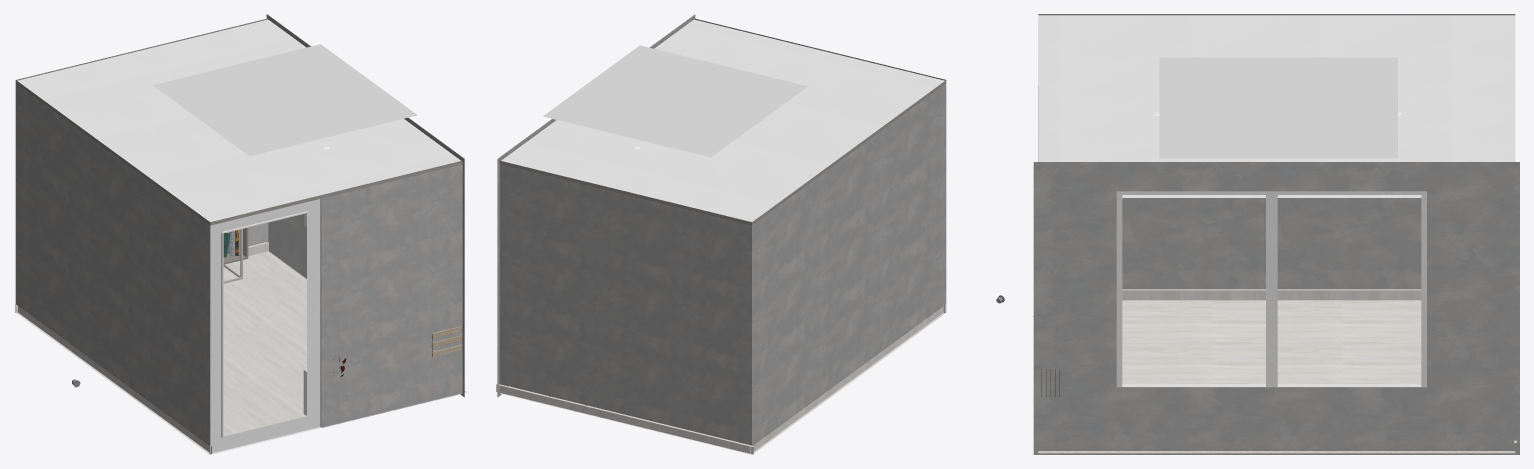
The model's file is lsw_env.glb.
The picture shows the model from 3 angles, left to right: view 1: azimuth 30°, elevation 25°; view 2: azimuth 150°, elevation 25°; view 3: azimuth 270°, elevation 25°; orthographic projection. The views are drawn at different scales.
Parts seen in each view (by area): view 1: Cube.003, Cube.001, Cube.004, Plane.004, Cube.020, Cube.024, Cube.025, Cube.023, Object_8.003; view 2: Cube.003, Cube.001, Plane.004, Cube.023, Cube.025, Cube.020; view 3: Cube.003, Cube.001, Plane.004, Cube.020, Cube.024, Cube.023, Cube.029, Cube.025.
Part boxes in pixels (x1,y1,x2,y2): Cube.003: (15,14,464,445); Cube.001: (17,19,460,221); Cube.004: (224,213,306,435); Plane.004: (152,44,417,156); Cube.020: (16,251,461,454); Cube.024: (209,198,321,454); Cube.025: (15,18,462,225); Cube.023: (14,242,268,453); Object_8.003: (432,326,462,356); Cube.003: (497,14,946,445); Cube.001: (501,19,944,221); Plane.004: (543,45,807,157); Cube.023: (495,306,943,454); Cube.025: (499,18,946,225); Cube.020: (500,313,945,454); Cube.003: (1033,162,1519,454); Cube.001: (1038,15,1515,161); Plane.004: (1159,57,1397,158); Cube.020: (1122,300,1421,383); Cube.024: (1038,18,1426,387); Cube.023: (1122,289,1516,442); Cube.029: (1038,451,1515,453); Cube.025: (1038,14,1515,15).
Bounding box in the file's own units: 4.22 × 2.77 × 4.08.
Materials: 45 (35 with a texture image).
